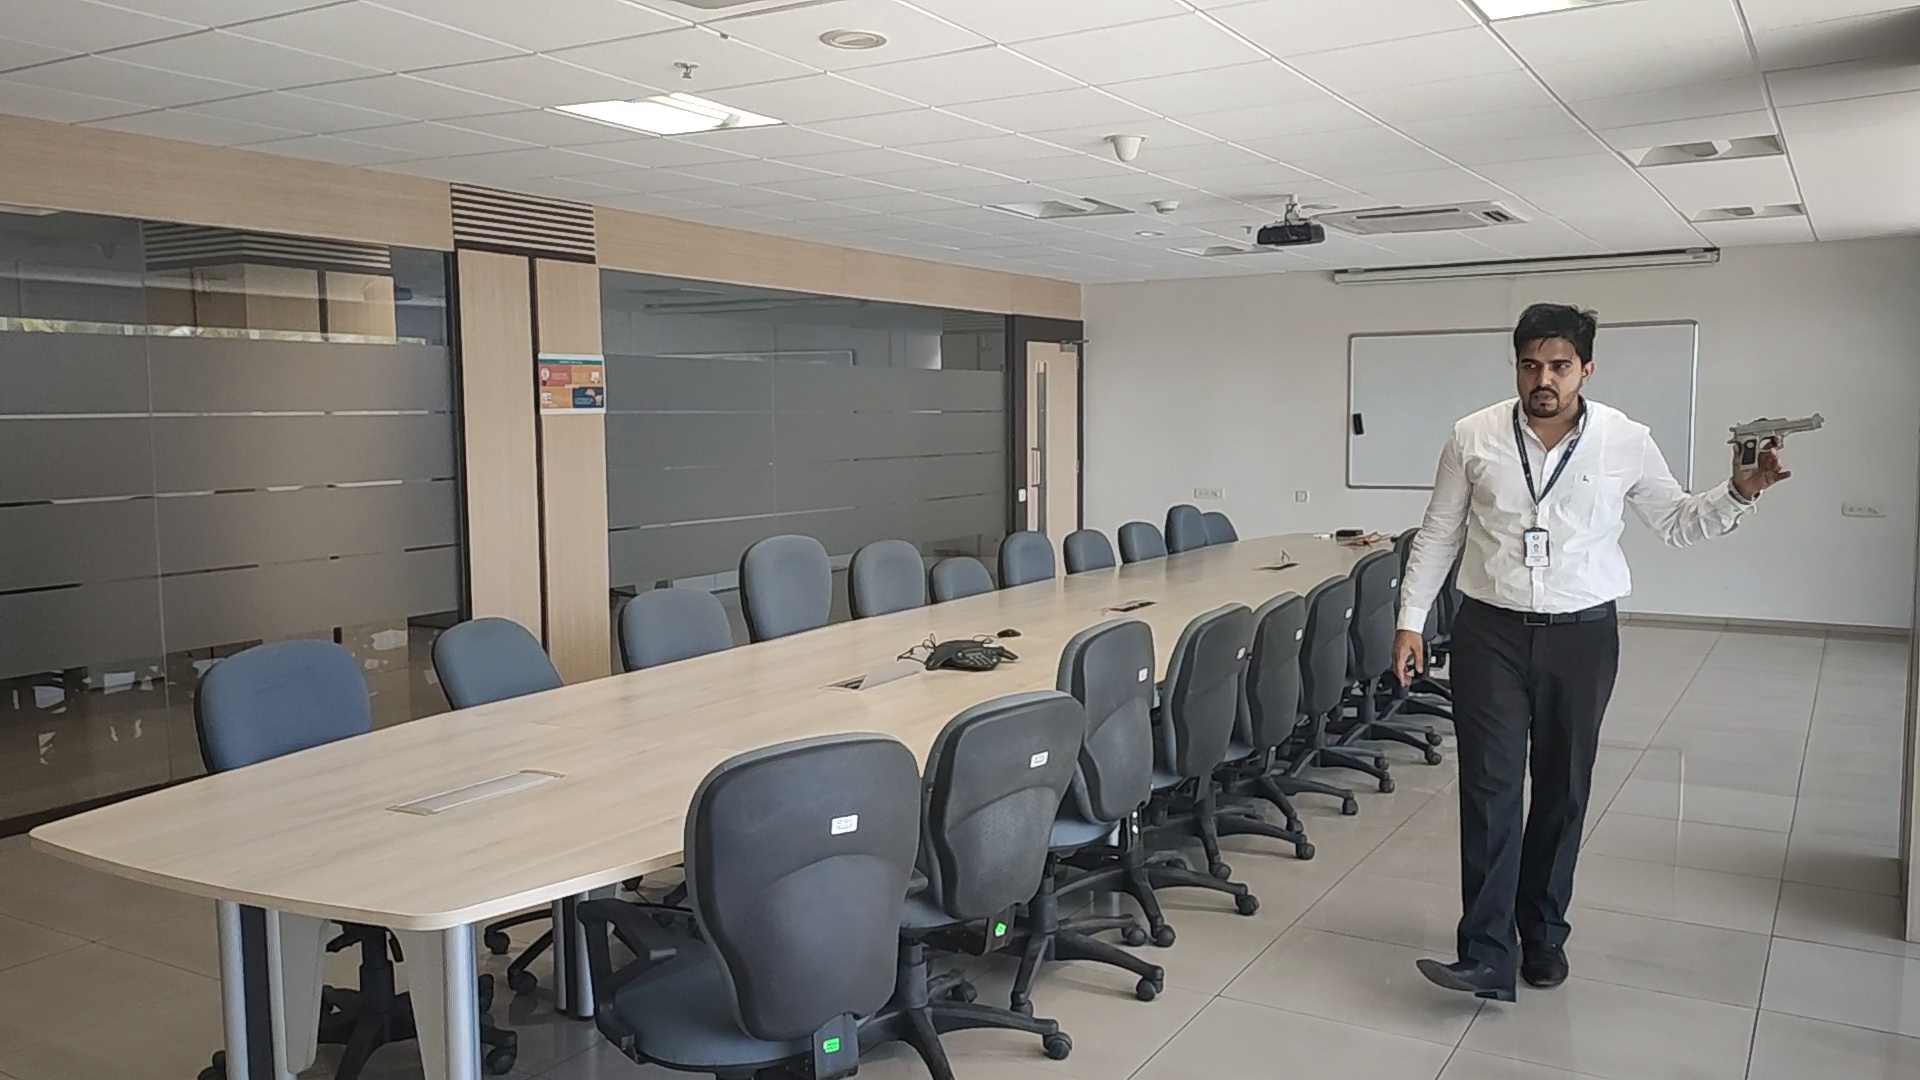gun: (1726, 411, 1825, 446)
